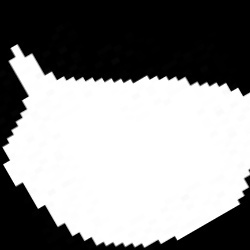spot: (2, 45, 249, 245)
